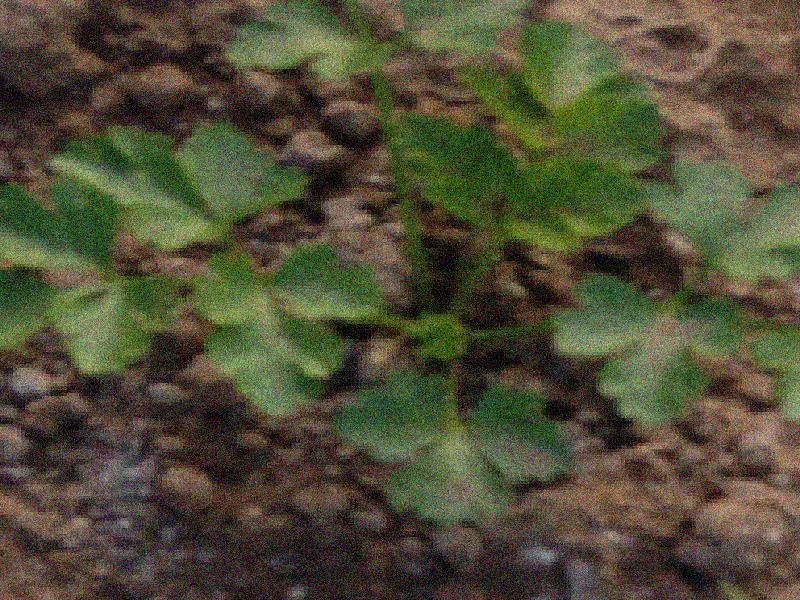radish: (124, 78, 800, 590)
